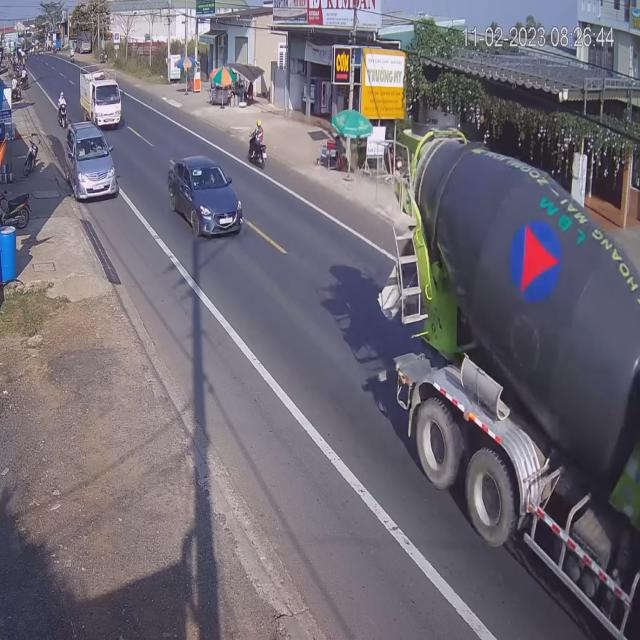car: (170, 156, 246, 242), (64, 121, 117, 202)
motorbike: (248, 118, 266, 171), (59, 91, 70, 128)
truck: (394, 126, 640, 640), (81, 66, 122, 129)
